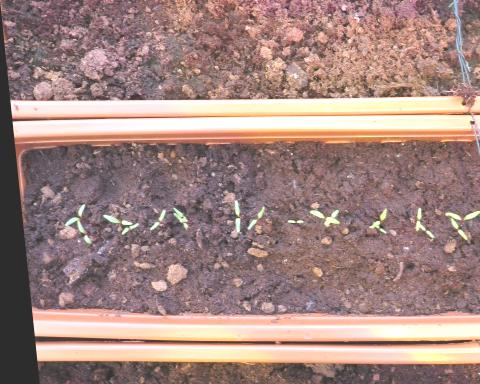crop: (238, 203, 263, 230), (141, 207, 163, 231), (224, 197, 238, 233), (278, 218, 301, 224)
